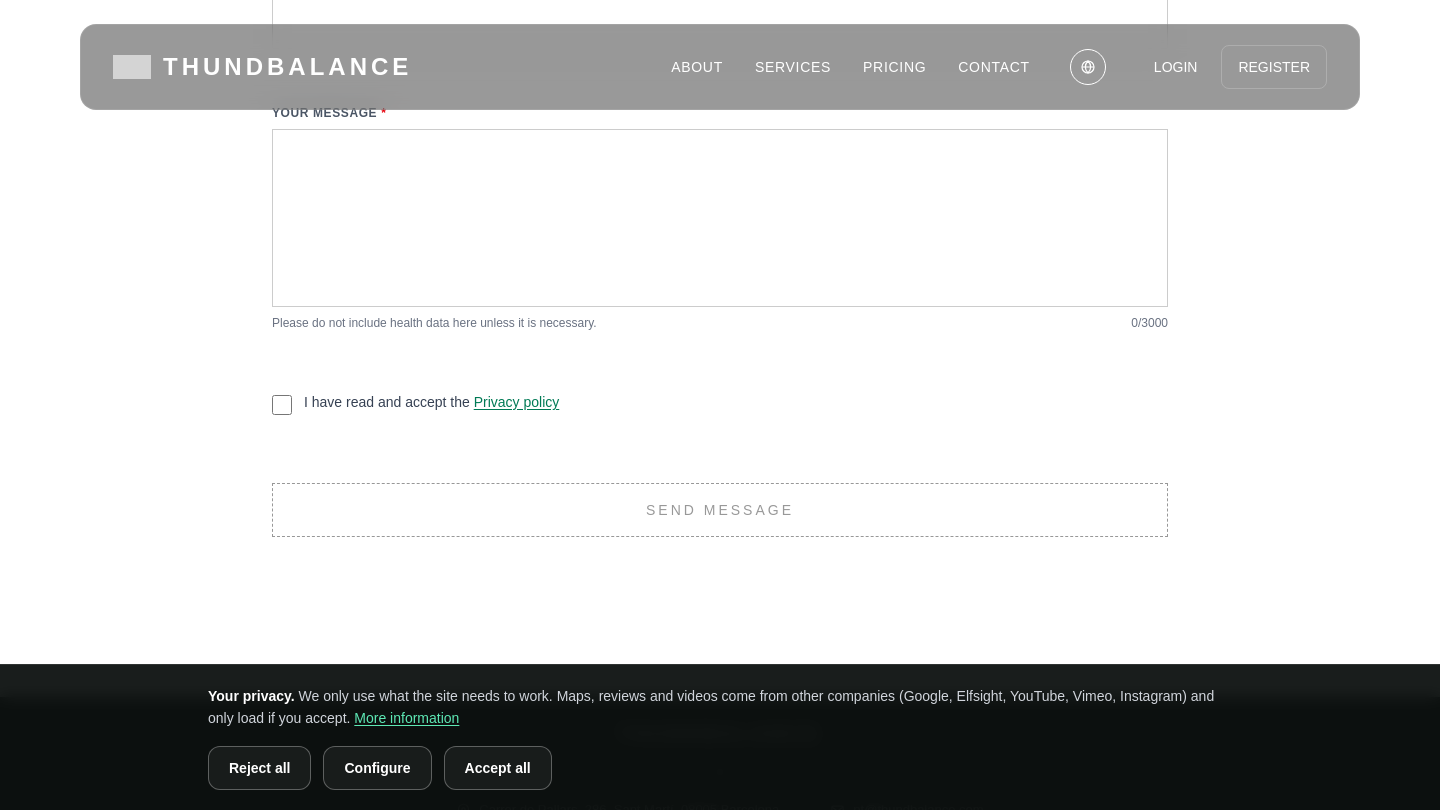
Test: contact form › the send button is clearly disabled until the privacy policy is accepted, and clearly active after
(page scrolled)
Check: the button "Send Message" is disabled, box [272,483,1168,537]
What coordinates should you click on to do the following:
click the checkbox
I would click on:
 (282, 405)
Its box is [272,395,292,415].
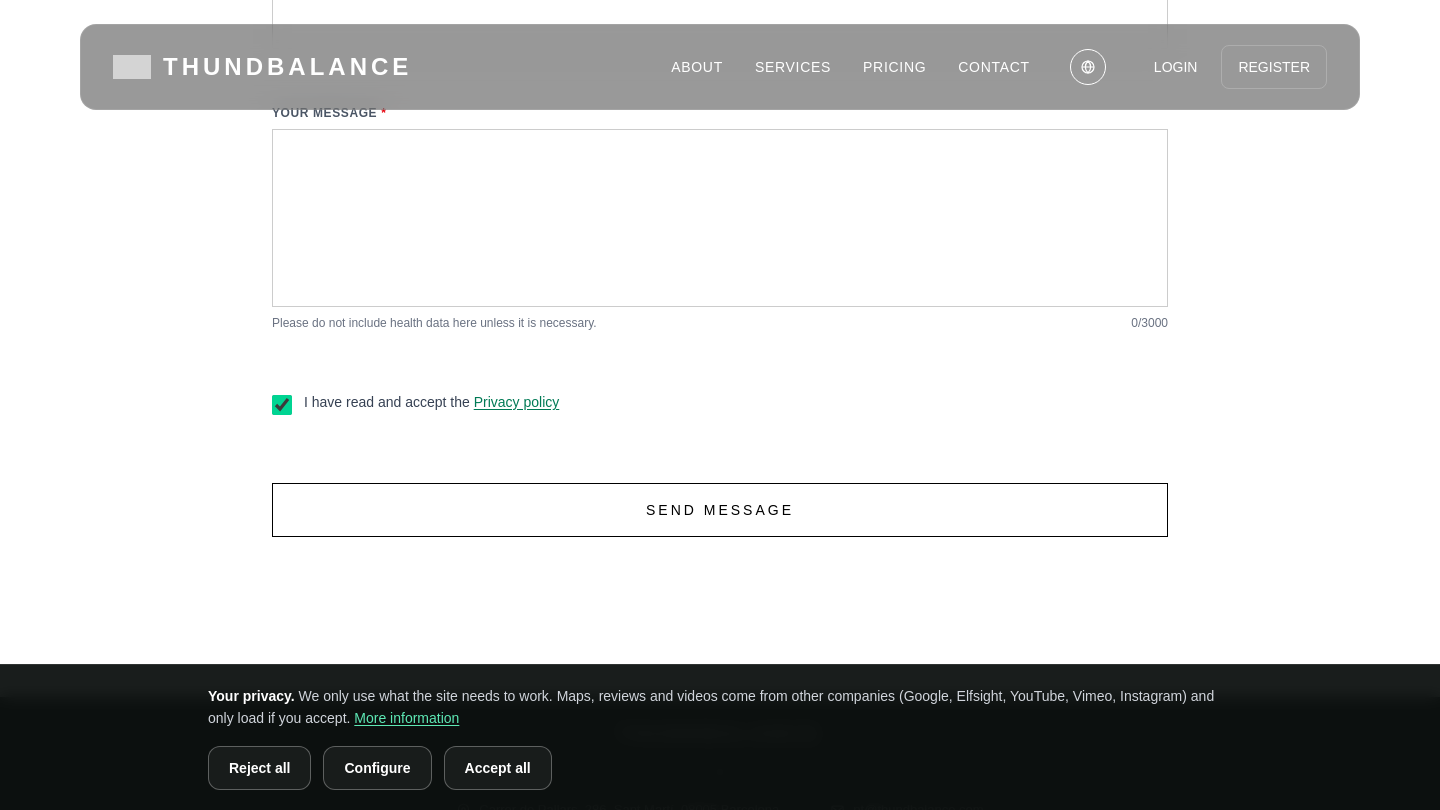
Check: the button "Send Message" is enabled, box [272,483,1168,537]
